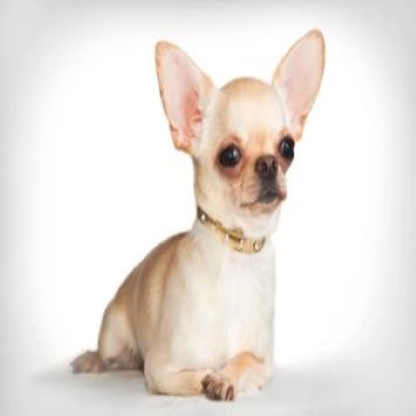chihuahua: (69, 28, 328, 402)
